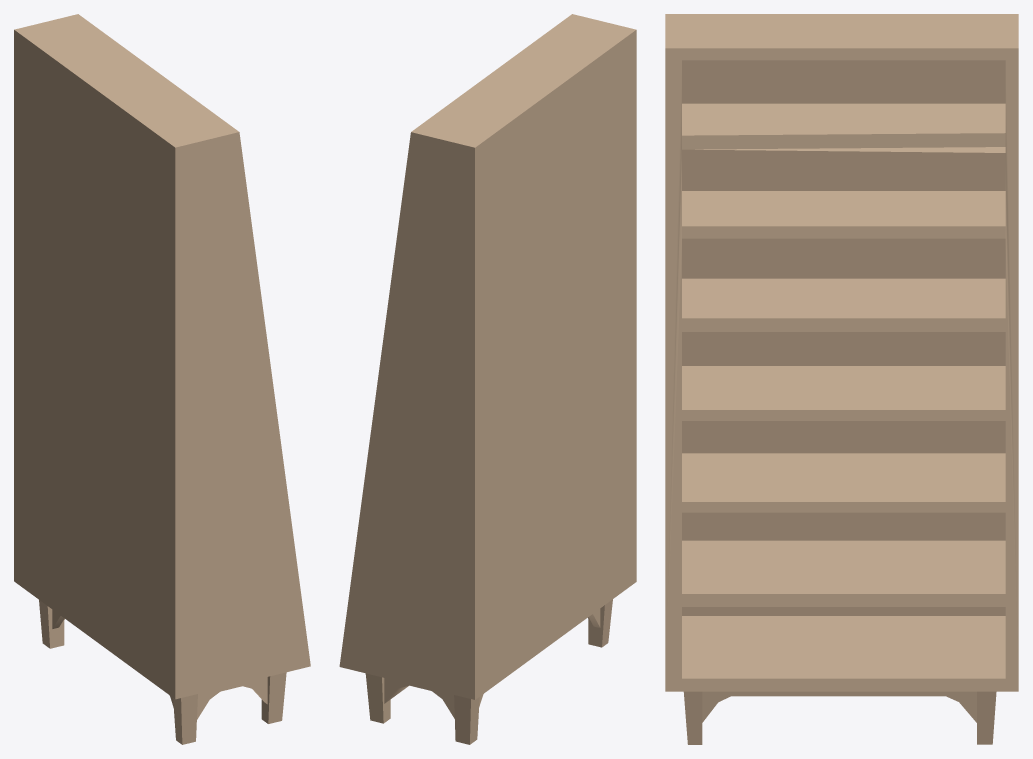
File: bookshelf.fbx
3 renders of one model, left to right at view 1: azimuth 30°, elevation 25°; view 2: azimuth 150°, elevation 25°; view 3: azimuth 270°, elevation 25°, orthographic. The views are drawn at different scales.
Visible parts, largest first — view 1: pCube1; view 2: pCube1; view 3: pCube1.
Part boxes in pixels (x1,y1,x2,y2): pCube1: (14, 14, 310, 744); pCube1: (339, 14, 636, 744); pCube1: (665, 14, 1018, 744).
Size of the model in its own units: 6.47 by 27.78 by 13.32.
